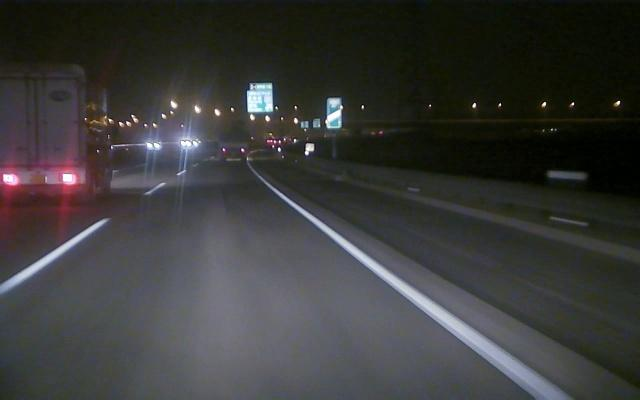lane: (269, 184, 572, 398), (1, 222, 106, 295)
